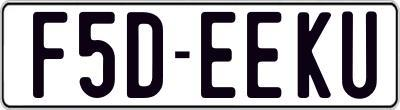5: (79, 9, 115, 100)
D: (125, 12, 166, 102)
E: (199, 12, 238, 100), (245, 10, 280, 96)
F: (32, 12, 70, 99)
K: (298, 11, 334, 99)
U: (342, 10, 382, 103)
